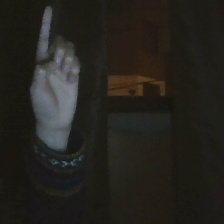D: (28, 1, 86, 130)
